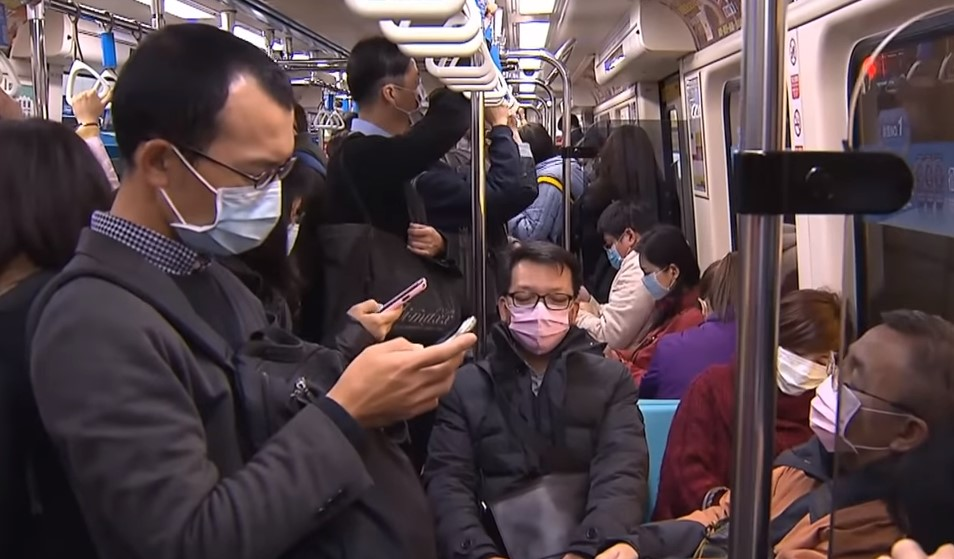face_with_mask: (113, 32, 302, 263), (806, 306, 954, 462), (497, 235, 581, 356), (348, 33, 437, 134), (768, 287, 845, 396), (634, 221, 695, 301), (599, 201, 647, 269)
